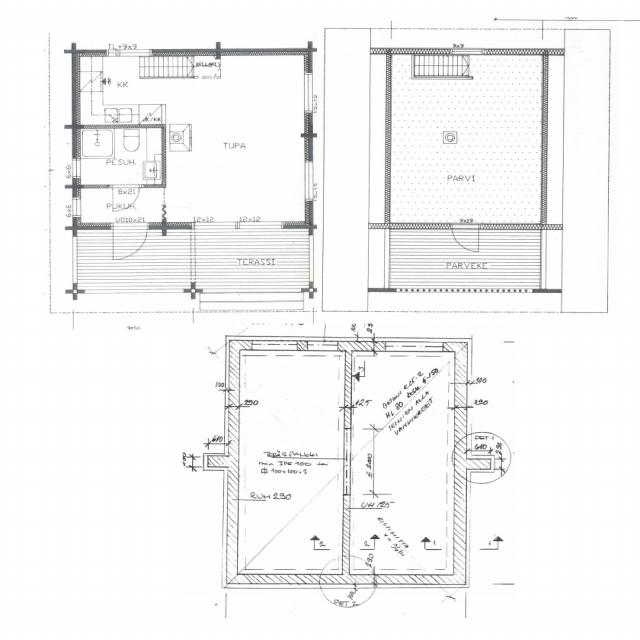door: (112, 222, 148, 260), (452, 223, 478, 252), (113, 184, 139, 212)
